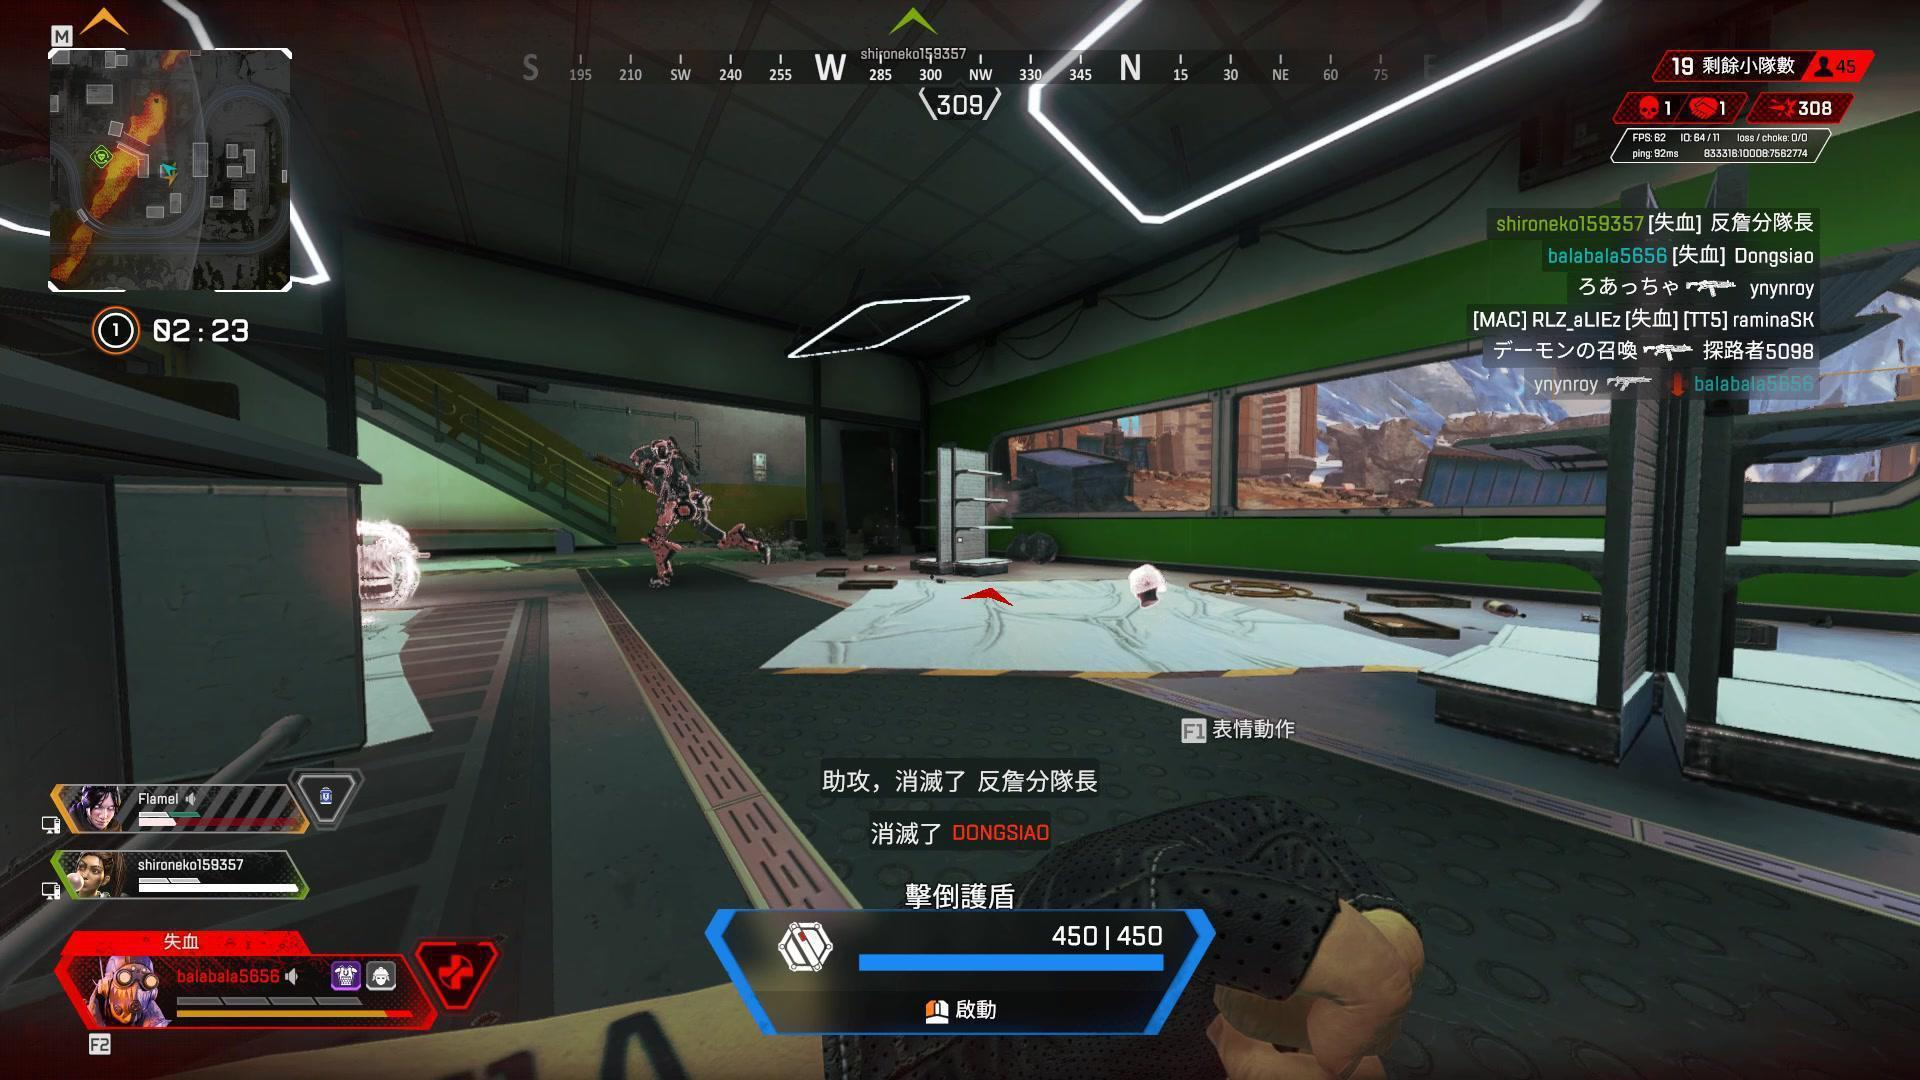avatar: (624, 442, 716, 591)
